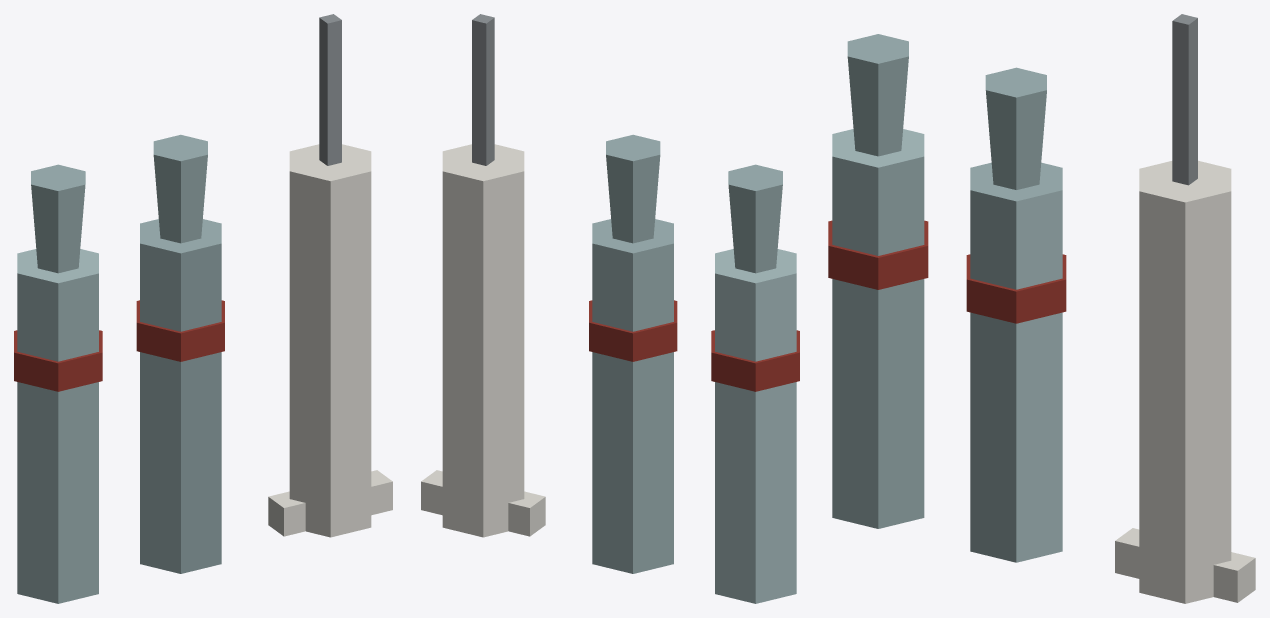
The model's file is painkiller_ampula_idle.glb.
The picture shows the model from 3 angles, left to right: view 1: azimuth 30°, elevation 25°; view 2: azimuth 150°, elevation 25°; view 3: azimuth 330°, elevation 25°; orthographic projection. The views are drawn at different scales.
Visible parts, largest first — view 1: painkiller_ampula_idle; view 2: painkiller_ampula_idle; view 3: painkiller_ampula_idle.
Boxes of the visible parts, <box> form: painkiller_ampula_idle: <box>14,14,392,603</box>; painkiller_ampula_idle: <box>421,14,799,603</box>; painkiller_ampula_idle: <box>828,14,1255,603</box>.
Bounding box in the file's own units: 0.0545 × 0.07 × 0.0113.
Materials: 1 (1 with a texture image).
